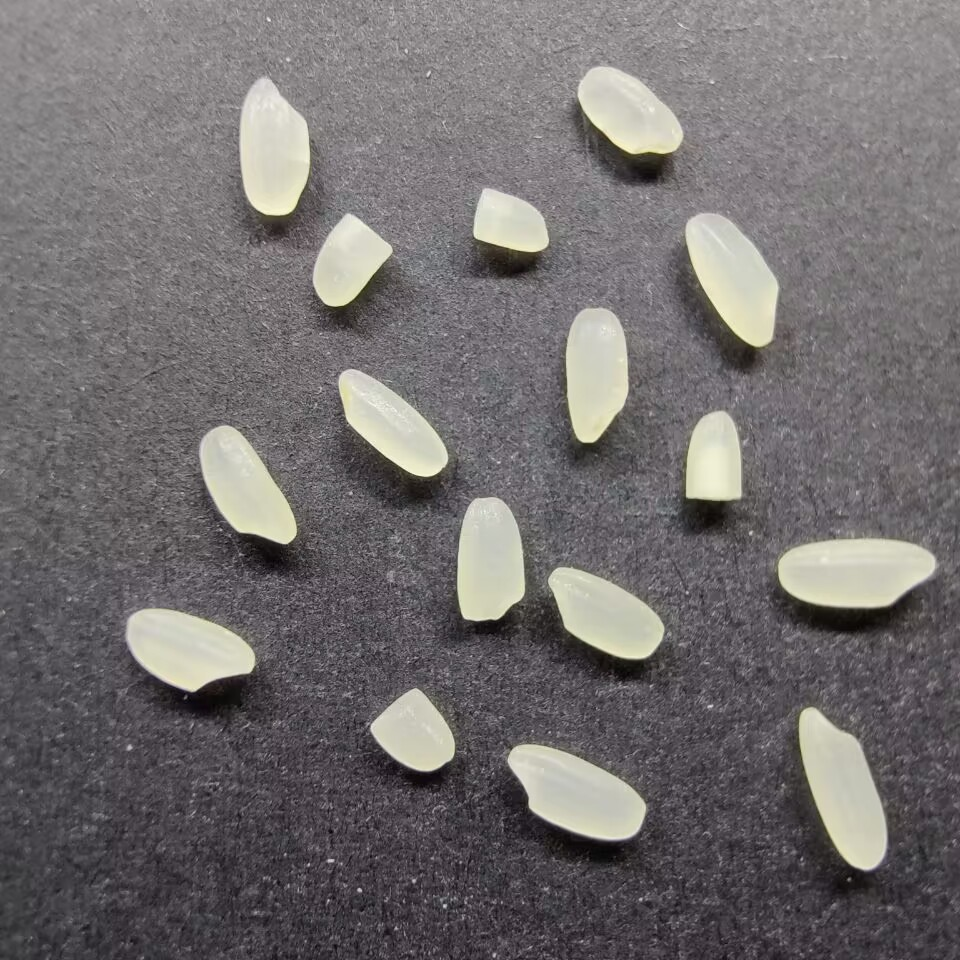broken: (309, 210, 394, 308), (368, 688, 456, 773), (681, 407, 744, 504), (470, 186, 549, 255)
rice: (797, 704, 890, 872), (505, 741, 647, 840), (683, 210, 781, 348), (335, 366, 449, 479), (196, 424, 300, 547), (773, 537, 938, 609), (124, 607, 258, 694), (544, 564, 665, 660), (237, 74, 312, 216), (576, 65, 684, 157), (562, 304, 630, 444), (452, 495, 525, 623)
